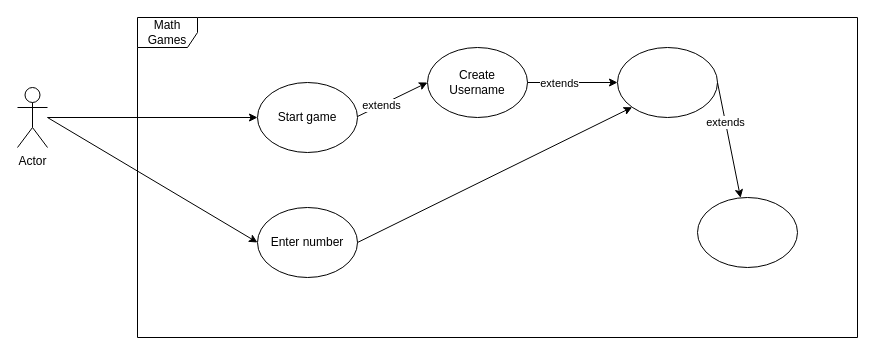
Some shapes in this 875 by 355 pixel diagram are drawn without their labels. Here are the shapes that lost their labels. From the top down, the centre of each, then its label:
(667,82): Landing Page
(747,232): Play Game
